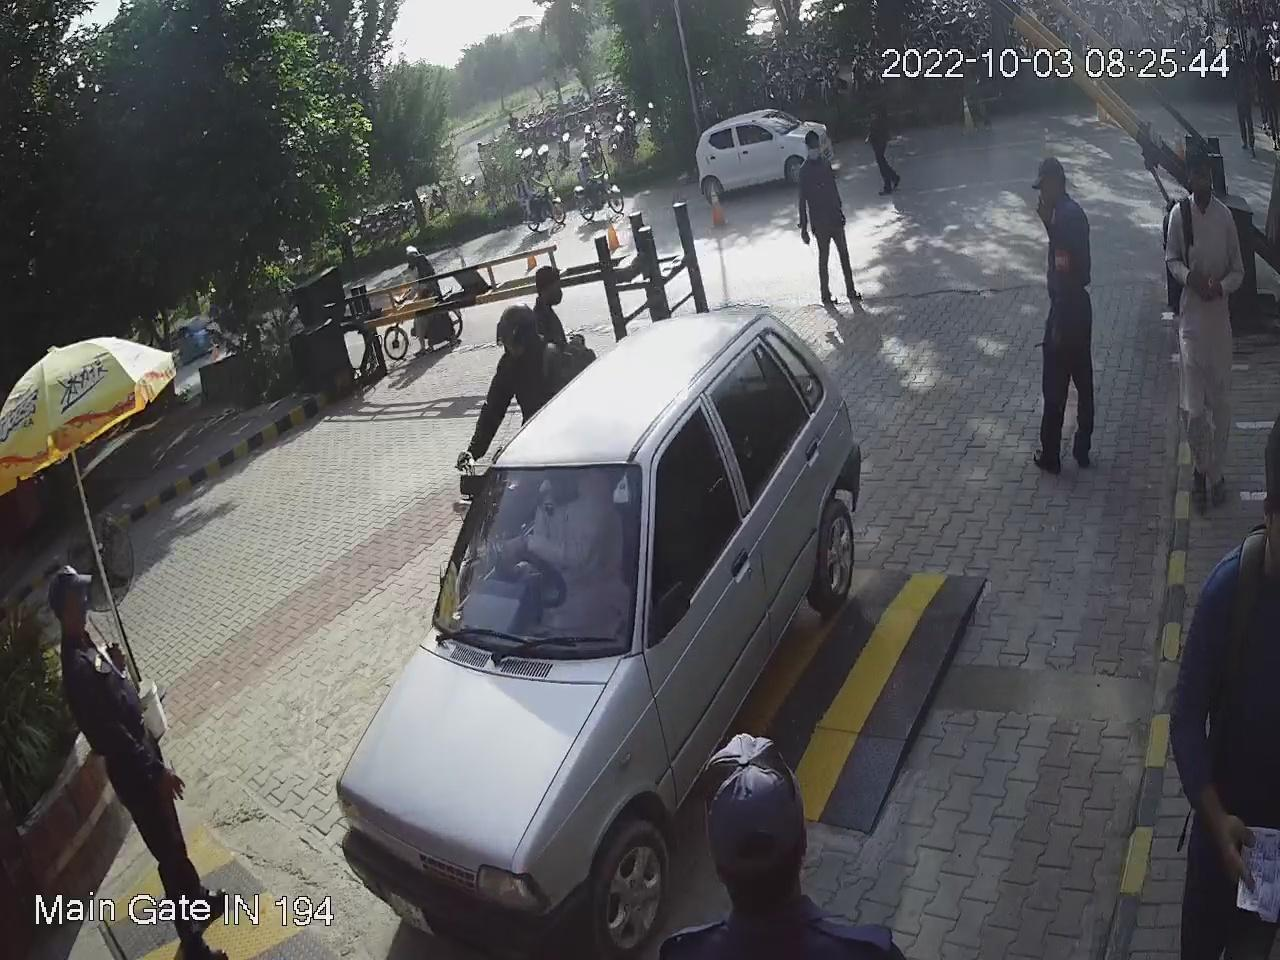windshield: (428, 458, 653, 670)
